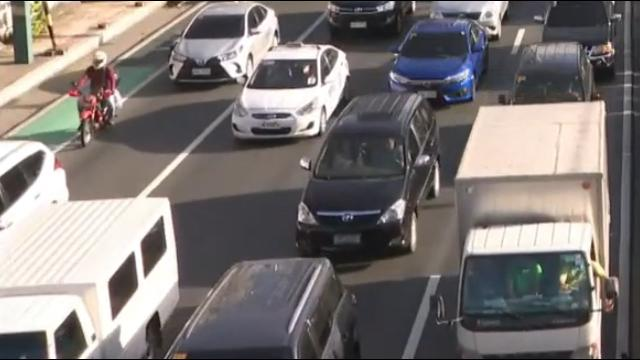car: (295, 95, 441, 258), (169, 256, 357, 360), (232, 43, 348, 138), (169, 3, 285, 82), (391, 19, 488, 102), (0, 140, 65, 235), (503, 42, 601, 103), (542, 0, 617, 74), (424, 0, 510, 41), (326, 0, 417, 36)
motorcycle: (67, 47, 123, 150)
truck: (453, 104, 616, 360)
